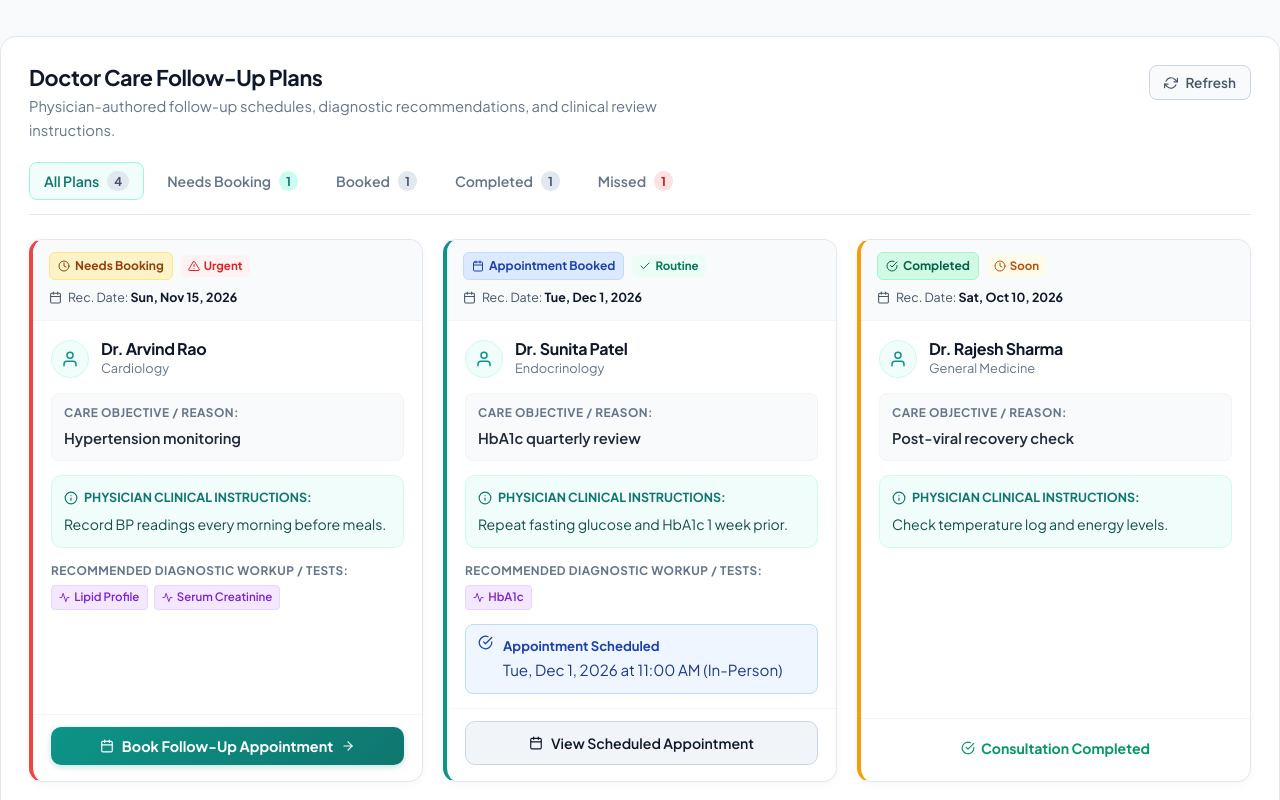
Test case: PatientFollowUps Component › filter tabs filter follow-ups by status
This screenshot has width=1280, height=800.
Expected: the text "Hypertension monitoring" is shown, [64,428,241,446]
Note: Click 'Booked' tab
Click the tab "Booked 1". click: (376, 181)
box: [321,162,432,200]
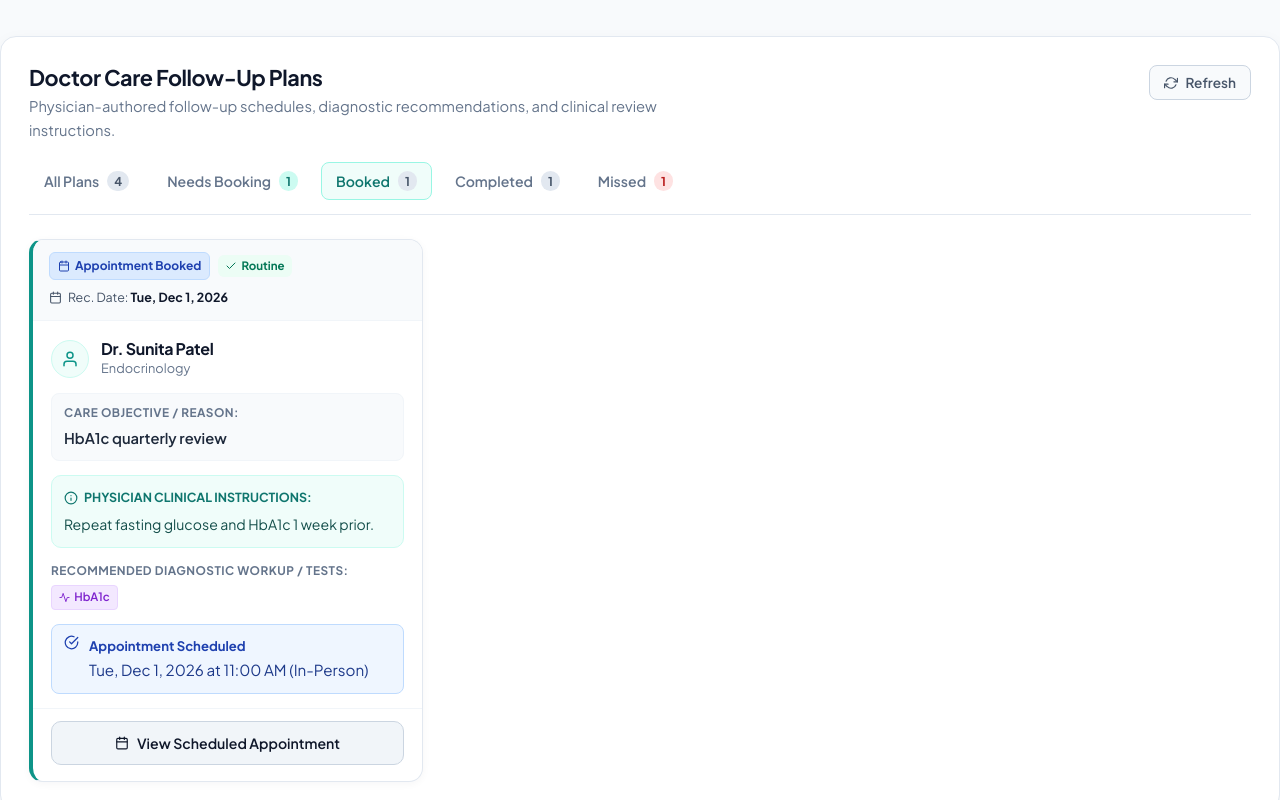
Expected: the text "HbA1c quarterly review" is shown, [64,428,227,446]
Now the text "Hypertension monitoring" is gone
Note: Click 'Completed' tab
Click the tab "Completed 1". click: (507, 181)
box: [440,162,575,200]
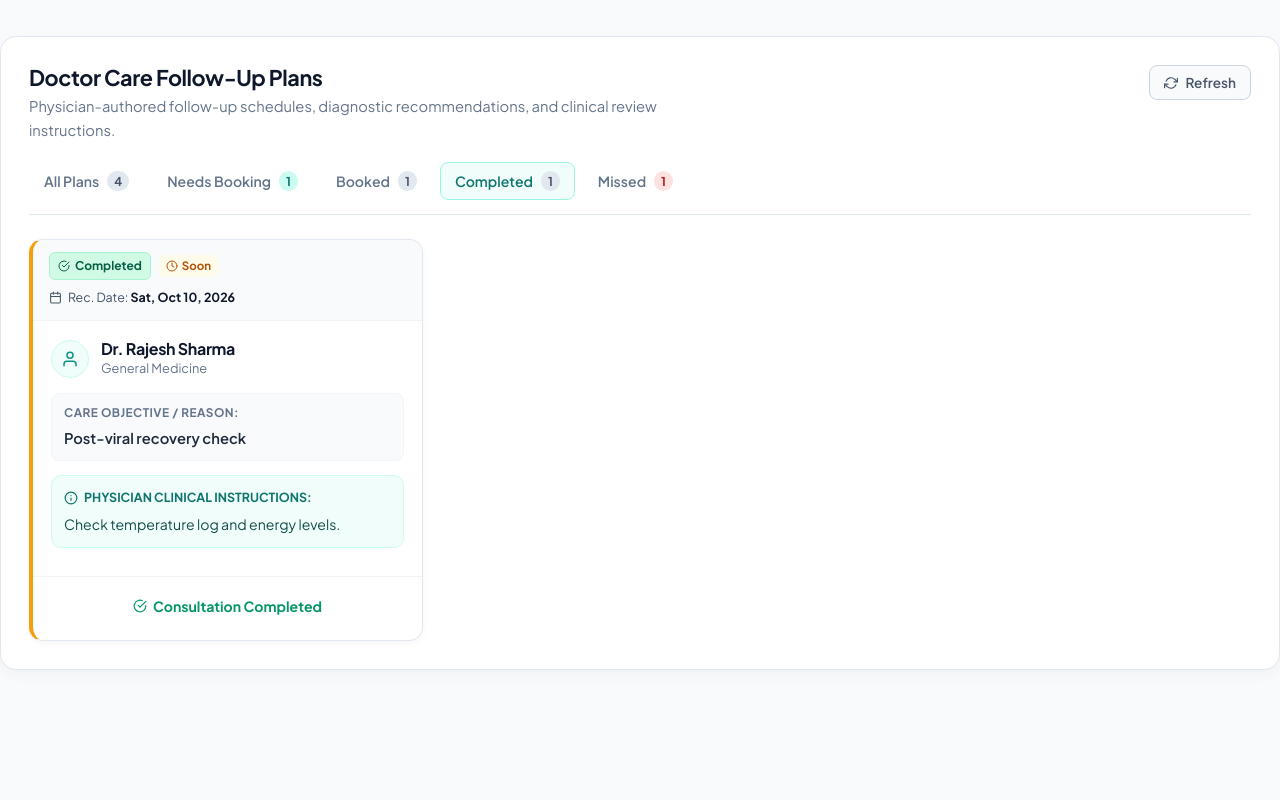
Now the text "Post-viral recovery check" is shown, box [64,428,246,446]
Now the text "HbA1c quarterly review" is gone
Note: Click 'Missed' tab
Click the tab "Missed 1". click: (635, 181)
box: [583,162,688,200]
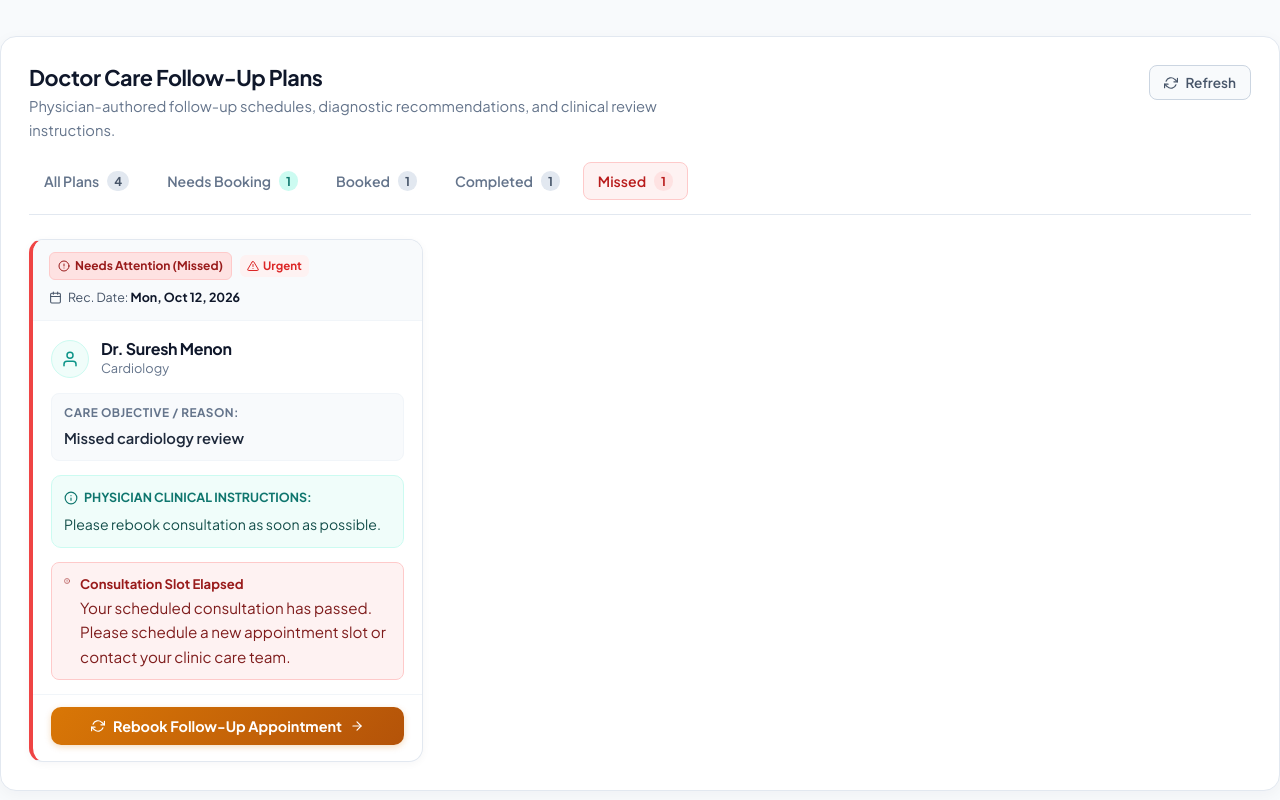
Now the text "Missed cardiology review" is shown, box [64,428,244,446]
Now the text "Post-viral recovery check" is gone
